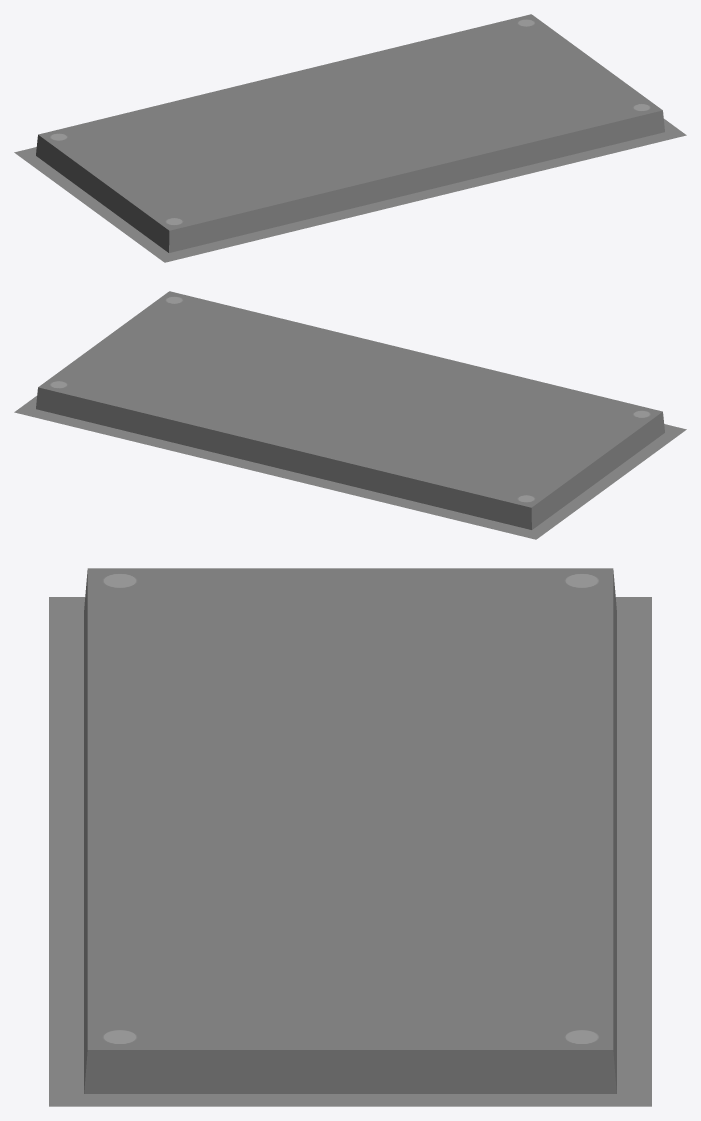
Rendered from B_tile_2x1.fbx.
3 views of the same model, one above another, from view 1: azimuth 30°, elevation 25°; view 2: azimuth 150°, elevation 25°; view 3: azimuth 270°, elevation 25° (orthographic). The views are drawn at different scales.
Visible parts, largest first — view 1: Object164; view 2: Object164; view 3: Object164.
Boxes of the visible parts, <box> form: Object164: <box>14,14,686,262</box>; Object164: <box>14,291,686,539</box>; Object164: <box>49,568,651,1106</box>.
Size of the model in its own units: 200 by 7.86 by 100.
